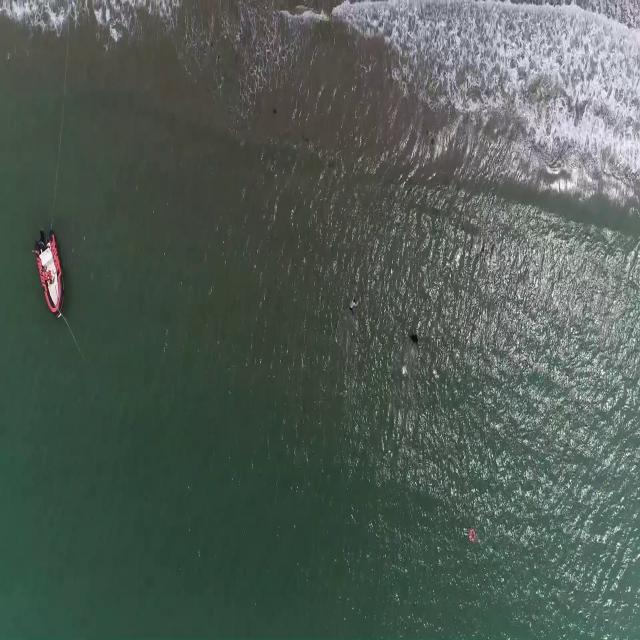boat: (34, 228, 64, 316)
life_buoy: (468, 526, 477, 542)
person: (349, 292, 362, 316), (410, 327, 419, 347)
